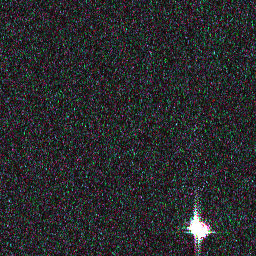ship: (187, 215, 211, 242)
